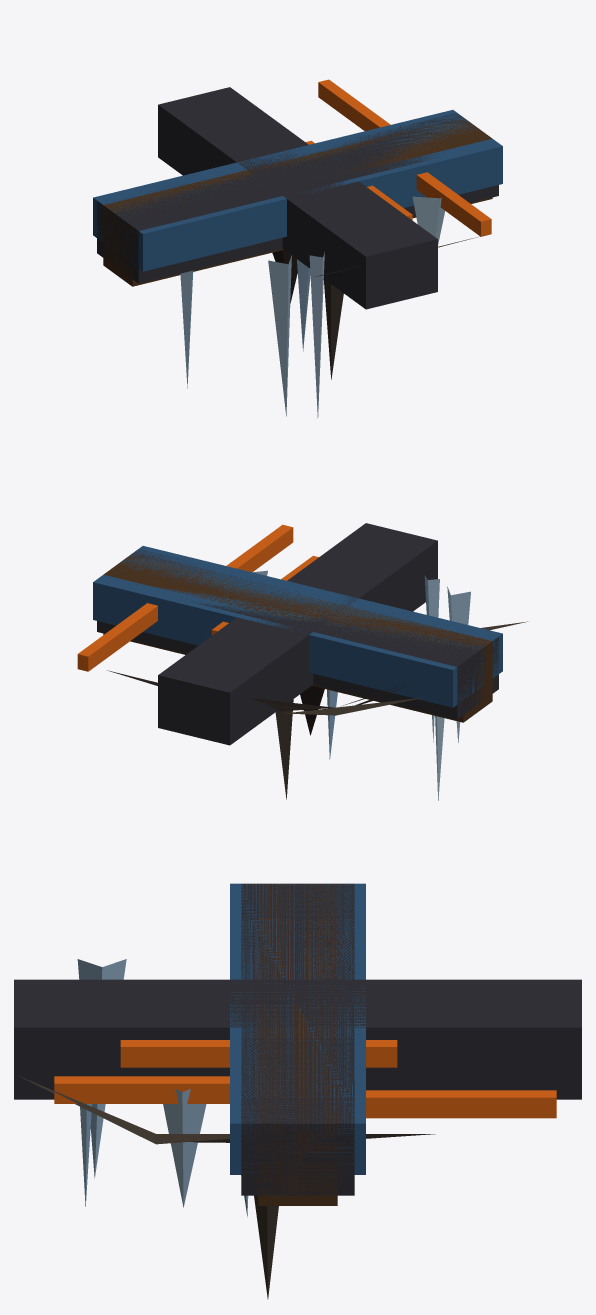
Rendered from ceilings.glb.
3 views of the same model, one above another, from view 1: azimuth 30°, elevation 25°; view 2: azimuth 150°, elevation 25°; view 3: azimuth 270°, elevation 25° (orthographic). The views are drawn at different scales.
Visible parts, largest first — view 1: crypt_b, sandstone_b, masonry_b, ice_b, lava_b, cave_b; view 2: crypt_b, sandstone_b, masonry_b, lava_b, ice_b, cave_b, sewer_b; view 3: crypt_b, sandstone_b, lava_b, masonry_b, sewer_b, ice_b, cave_a, cave_b.
Boxes of the visible parts, <box> form: crypt_b: <box>97,87,498,309</box>; sandstone_b: <box>93,110,502,271</box>; masonry_b: <box>103,117,492,286</box>; ice_b: <box>180,188,449,418</box>; lava_b: <box>272,79,491,303</box>; cave_b: <box>323,279,343,379</box>; crypt_b: <box>97,523,498,745</box>; sandstone_b: <box>93,546,502,707</box>; masonry_b: <box>103,554,492,722</box>; lava_b: <box>77,524,399,735</box>; ice_b: <box>230,562,470,800</box>; cave_b: <box>258,621,527,799</box>; sewer_b: <box>128,552,493,707</box>; crypt_b: <box>14,883,581,1195</box>; sandstone_b: <box>230,883,365,1174</box>; lava_b: <box>54,1040,556,1118</box>; masonry_b: <box>258,883,337,1205</box>; sewer_b: <box>252,883,343,1184</box>; ice_b: <box>77,959,248,1217</box>; cave_a: <box>17,1075,229,1144</box>; cave_b: <box>254,1195,278,1299</box>.
Bounding box in the file's own units: 1 × 0.6488 × 1.
